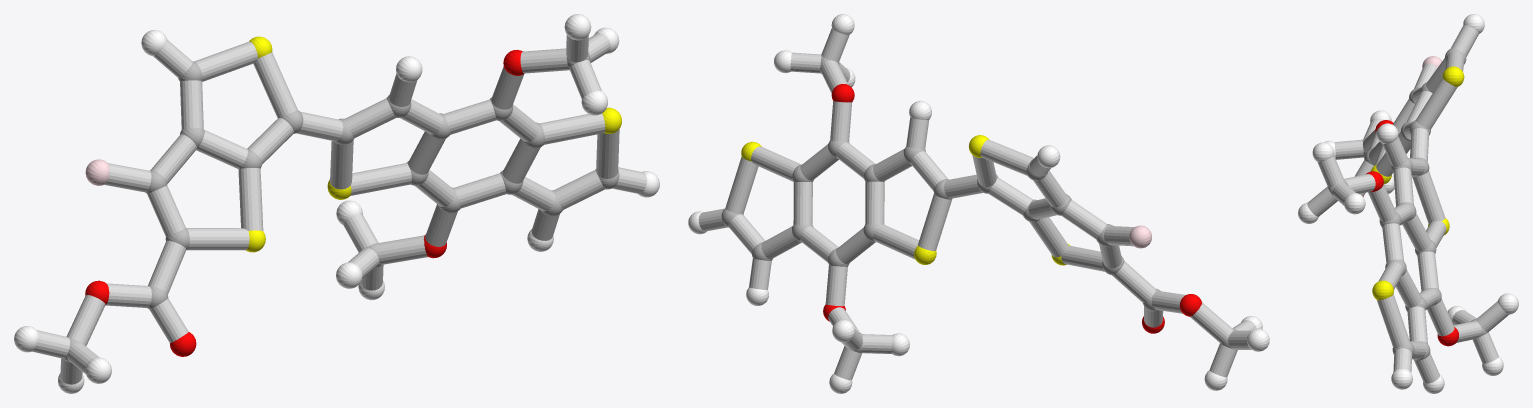
File: Dimethoxy_Benzodithiophene_Phi_15_Theta_50_Methylcarbonyl_3_Fluoro_Thienothiophene.glb
The picture shows the model from 3 angles, left to right: view 1: azimuth 30°, elevation 25°; view 2: azimuth 150°, elevation 25°; view 3: azimuth 270°, elevation 25°; orthographic projection. The views are drawn at different scales.
Parts seen in each view (by area): view 1: grp15205, grp8689, grp1, grp13395, grp7241; view 2: grp15205, grp8689, grp1, grp13395, grp7241; view 3: grp15205, grp8689, grp1, grp7241, grp13395.
Part boxes in pixels (x1,y1,x2,y2): grp15205: (32, 33, 647, 384); grp8689: (14, 14, 659, 393); grp1: (63, 52, 619, 362); grp13395: (85, 49, 524, 356); grp7241: (246, 36, 621, 252); grp15205: (698, 28, 1256, 380); grp8689: (688, 14, 1269, 393); grp1: (721, 56, 1236, 352); grp13395: (823, 84, 1202, 333); grp7241: (741, 135, 1070, 265); grp15205: (1307, 25, 1508, 383); grp8689: (1298, 14, 1518, 393); grp1: (1328, 48, 1487, 360); grp7241: (1371, 66, 1464, 300); grp13395: (1362, 120, 1458, 346).
Bounding box in the file's own units: 17.05 × 8.34 × 6.13.
